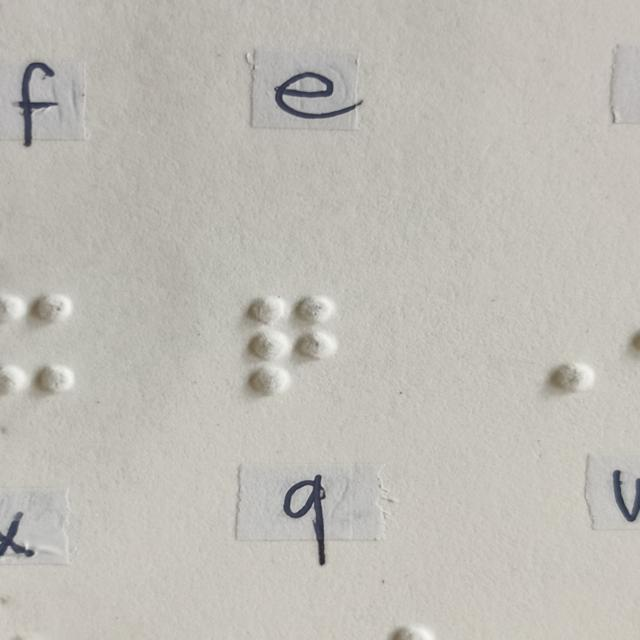q: (247, 295, 335, 399)
